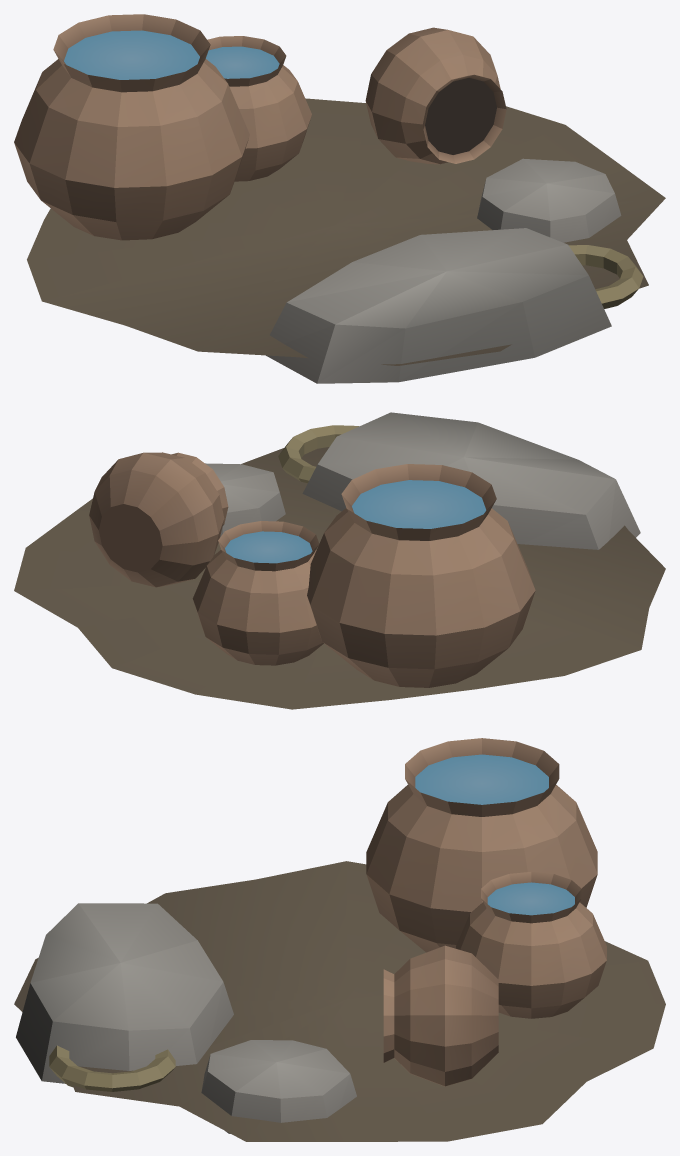
Rendered from water_landing_a.glb.
The picture shows the model from 3 angles, top to bottom: view 1: azimuth 30°, elevation 25°; view 2: azimuth 150°, elevation 25°; view 3: azimuth 270°, elevation 25°; orthographic projection.
Visible parts, largest first — view 1: water_landing_a; view 2: water_landing_a; view 3: water_landing_a.
Boxes of the visible parts, x1,y1,x2,y2 form: water_landing_a: [14, 14, 665, 383]; water_landing_a: [14, 412, 665, 709]; water_landing_a: [14, 738, 665, 1141].
Size of the model in its own units: 1.62 by 0.49 by 1.59.
